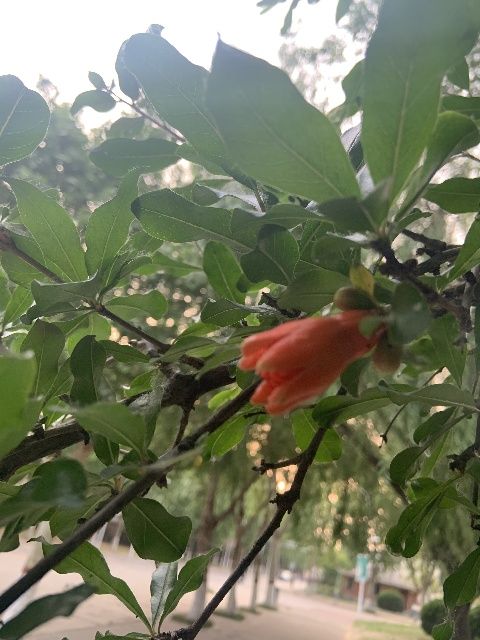flower: (237, 307, 387, 416)
